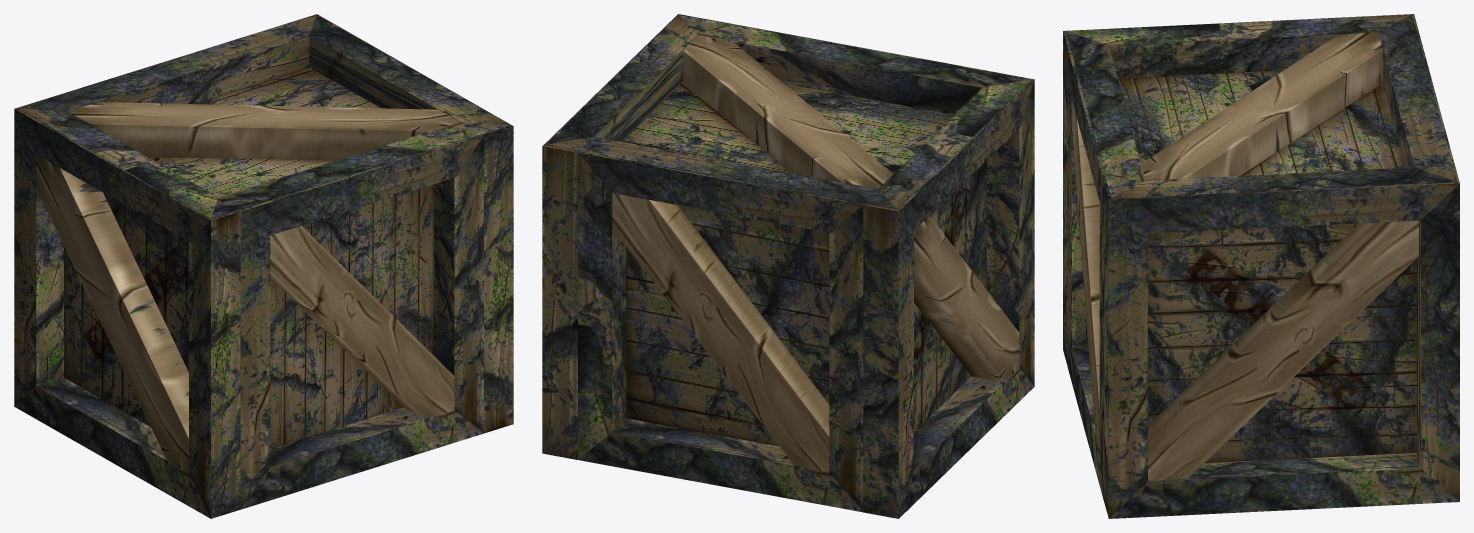
File: Crate_busted.fbx
3 renders of one model, left to right at view 1: azimuth 30°, elevation 25°; view 2: azimuth 150°, elevation 25°; view 3: azimuth 270°, elevation 25°, orthographic. The views are drawn at different scales.
Visible parts, largest first — view 1: polySurface13; view 2: polySurface13; view 3: polySurface13.
Boxes of the visible parts, <box> form: polySurface13: <box>14,14,513,518</box>; polySurface13: <box>542,14,1034,518</box>; polySurface13: <box>1063,14,1459,518</box>.
Size of the model in its own units: 4.73 by 3.8 by 4.26.
Materials: 1 (1 with a texture image).
